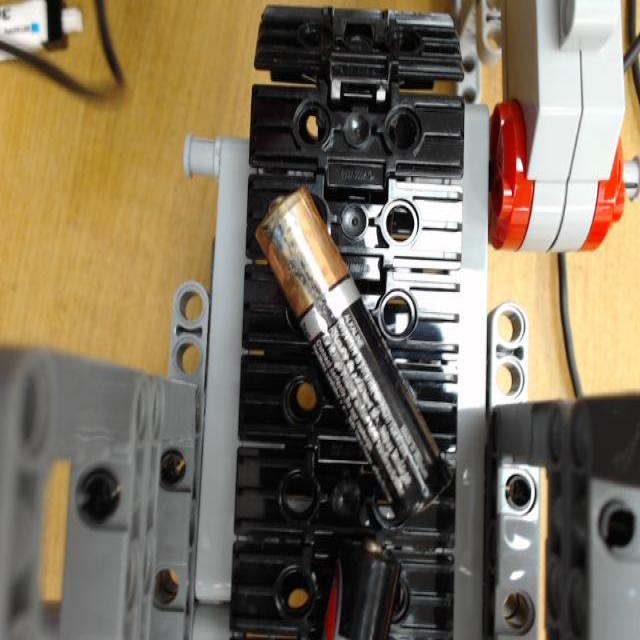AAA: (253, 192, 444, 517)
